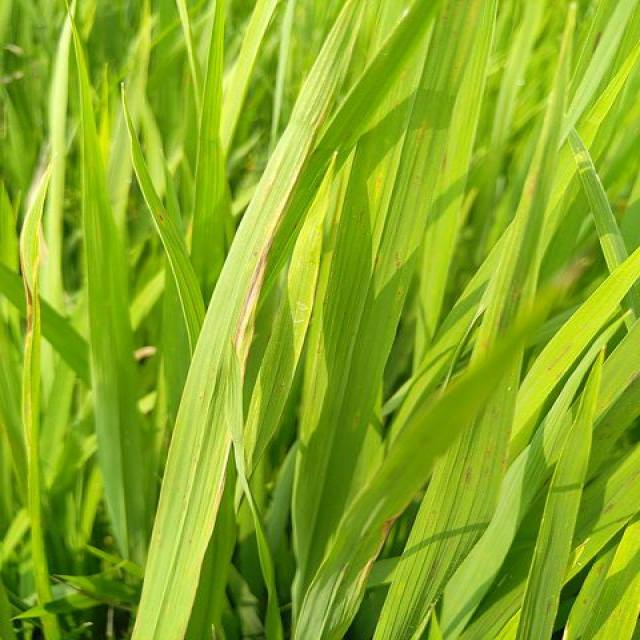Leaf Blight: (191, 73, 329, 460), (20, 168, 49, 466)
